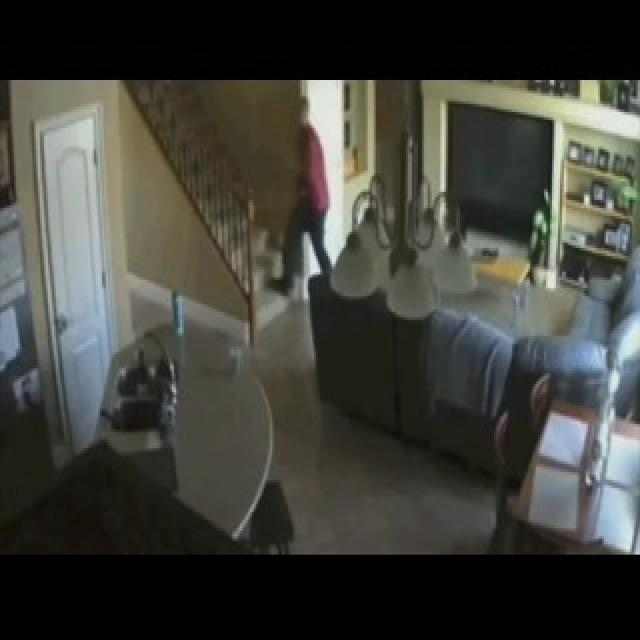thief: (278, 83, 350, 213)
